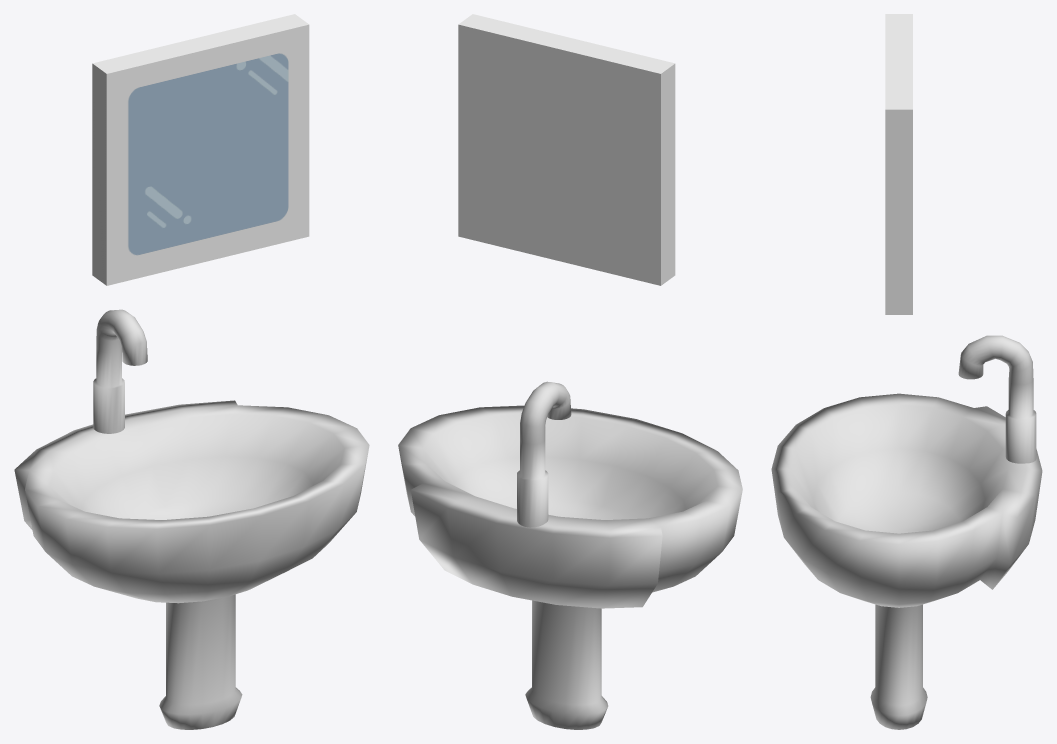
The model's file is scene1_sink.glb.
3 views of the same model, side by side, from view 1: azimuth 30°, elevation 25°; view 2: azimuth 150°, elevation 25°; view 3: azimuth 270°, elevation 25° (orthographic). The views are drawn at different scales.
Parts seen in each view (by area): view 1: MIRROR; view 2: MIRROR; view 3: MIRROR.
Boxes of the visible parts, x1,y1,x2,y2 form: MIRROR: (14, 14, 369, 729); MIRROR: (398, 14, 742, 729); MIRROR: (771, 14, 1042, 729).
Bounding box in the file's own units: 1.12 × 2.26 × 0.8496.
2 materials, 2 textured.
